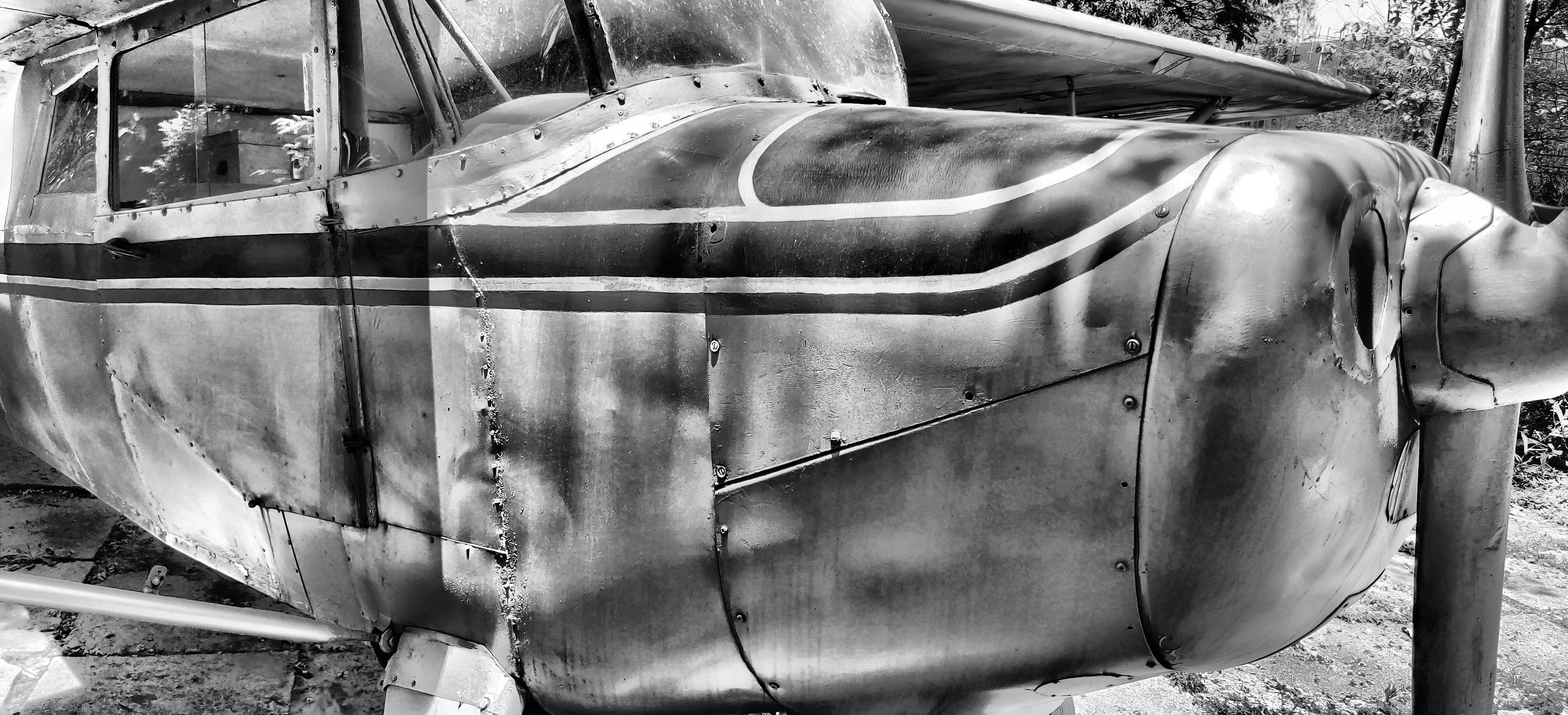crack: (236, 561, 251, 580)
dent: (457, 165, 499, 188), (1482, 661, 1497, 715), (1485, 523, 1507, 552)
missing-head: (964, 391, 975, 403), (708, 223, 718, 235), (1118, 480, 1129, 489), (1127, 622, 1135, 631), (1410, 362, 1418, 371), (1405, 307, 1414, 315), (1418, 403, 1427, 409), (1371, 353, 1376, 363), (1413, 235, 1419, 242), (1425, 185, 1431, 190)
scratch: (1467, 128, 1483, 183), (1478, 147, 1513, 156), (1094, 323, 1108, 329)
